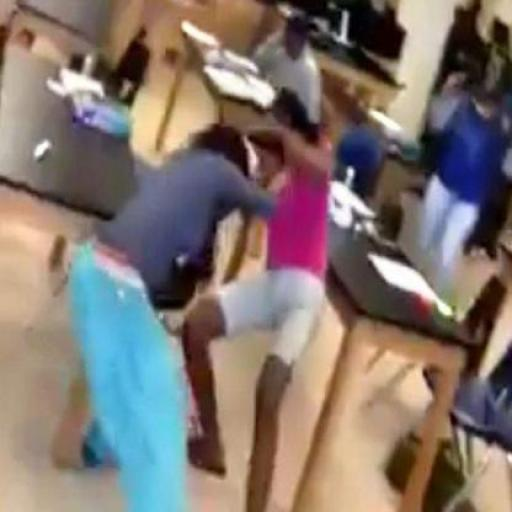Fighting: (53, 122, 333, 512)
